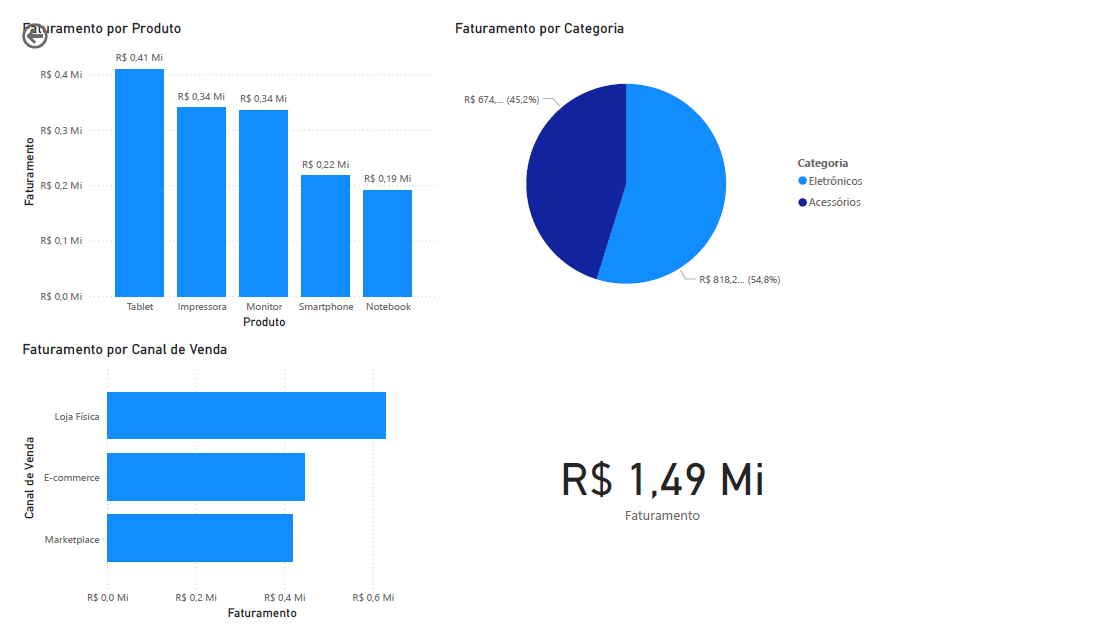

The dashboard page shown, as its layout file describes it:
{"tool":"powerbi","page":{"name":"Detalhamento","canvas":[1280,720],"ordinal":1},"visuals":[{"type":"clusteredColumnChart","fields":{"Y":["Medidas.Faturamento"],"Category":["dProdutos.Produto"]},"box":[0,0,505.1,372.7],"z":0},{"type":"clusteredBarChart","fields":{"Category":["dCanal de Vendas.Canal de Venda"],"Y":["Medidas.Faturamento"]},"box":[0,383,505,337],"z":1000},{"type":"pieChart","fields":{"Category":["dCategoria.Categoria"],"Y":["Medidas.Faturamento"]},"box":[515,0,505,373],"z":2000},{"type":"card","fields":{"Values":["Medidas.Faturamento"]},"box":[515,383,505,337],"z":3000},{"type":"actionButton","box":[0,0,100,40],"z":4000}]}

Visuals, with their boxes in screenshot pixels (x1, y1, x2, y2), scaled from the page's 1280x720 canvas onto the 1111x639 screenshot:
clusteredColumnChart - Medidas.Faturamento x dProdutos.Produto: region(0, 0, 438, 331)
clusteredBarChart - dCanal de Vendas.Canal de Venda x Medidas.Faturamento: region(0, 340, 438, 638)
pieChart - dCategoria.Categoria x Medidas.Faturamento: region(447, 0, 885, 331)
card - Medidas.Faturamento: region(447, 340, 885, 638)
actionButton: region(0, 0, 87, 36)
